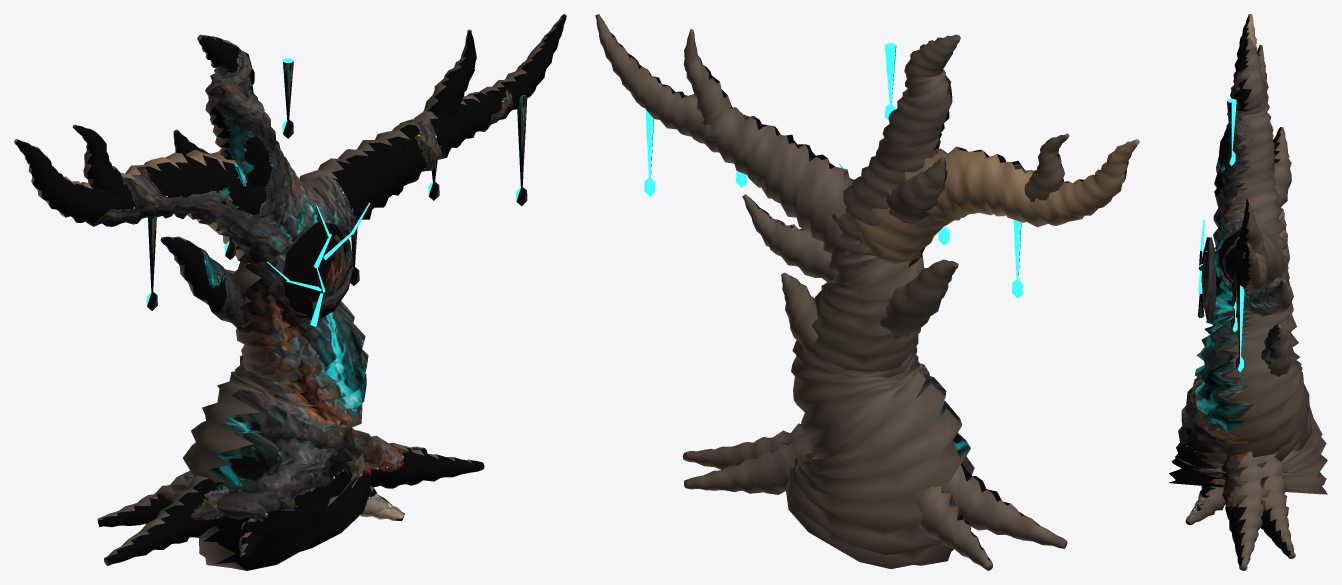
Rendered from ashroot-tree-r8.glb.
3 renders of one model, left to right at view 1: azimuth 30°, elevation 25°; view 2: azimuth 150°, elevation 25°; view 3: azimuth 270°, elevation 25°, orthographic. The views are drawn at different scales.
Parts seen in each view (by area): view 1: Ashroot R7 | fused twisting trunk, Ashroot R7 | long left bough, Ashroot R7 | sweeping right bough, Ashroot R7 | black heart hollow, Ashroot R7 | exposed root 1, Ashroot R7 | exposed root 6, Ashroot R7 | rear broken limb 1, Ashroot R7 | right fork, Ashroot R7 | left fork, Ashroot R7 | exposed root 2, Ashroot R7 | exposed root 4; view 2: Ashroot R7 | fused twisting trunk, Ashroot R7 | sweeping right bough, Ashroot R7 | long left bough, Ashroot R7 | exposed root 1, Ashroot R7 | exposed root 5, Ashroot R7 | rear broken limb 1, Ashroot R7 | rear broken limb 3, Ashroot R7 | exposed root 2, Ashroot R7 | rear broken limb 4, Ashroot R7 | right fork, Ashroot R7 | exposed root 6, Ashroot R7 | rear broken limb 2 (+1 smaller); view 3: Ashroot R7 | fused twisting trunk, Ashroot R7 | exposed root 6, Ashroot R7 | sweeping right bough, Ashroot R7 | exposed root 5, Ashroot R7 | long left bough, Ashroot R7 | rear broken limb 3, Ashroot R7 | rear broken limb 2, Ashroot R7 | rear broken limb 4, Ashroot R7 | black heart hollow, Ashroot R7 | exposed root 4, Ashroot R7 | right fork, Ashroot R7 | hanging cyan sap 5 (+2 smaller).
Boxes of the visible parts, x1,y1,x2,y2 form: Ashroot R7 | fused twisting trunk: (183,34,370,570); Ashroot R7 | long left bough: (14,139,305,264); Ashroot R7 | sweeping right bough: (299,14,566,235); Ashroot R7 | black heart hollow: (281,221,353,319); Ashroot R7 | exposed root 1: (104,475,228,566); Ashroot R7 | exposed root 6: (343,428,484,488); Ashroot R7 | rear broken limb 1: (160,236,250,333); Ashroot R7 | right fork: (423,29,476,120); Ashroot R7 | left fork: (72,124,134,211); Ashroot R7 | exposed root 2: (97,470,193,527); Ashroot R7 | exposed root 4: (360,486,404,521); Ashroot R7 | fused twisting trunk: (785,34,974,568); Ashroot R7 | sweeping right bough: (595,14,868,266); Ashroot R7 | long left bough: (854,139,1139,264); Ashroot R7 | exposed root 1: (943,462,1067,548); Ashroot R7 | exposed root 5: (684,434,812,494); Ashroot R7 | rear broken limb 1: (880,259,958,339); Ashroot R7 | rear broken limb 3: (742,194,838,282); Ashroot R7 | exposed root 2: (915,486,992,570); Ashroot R7 | rear broken limb 4: (886,157,946,223); Ashroot R7 | right fork: (683,29,732,140); Ashroot R7 | exposed root 6: (682,423,807,469); Ashroot R7 | rear broken limb 2: (781,272,818,353); Ashroot R7 | fused twisting trunk: (1168,38,1327,494); Ashroot R7 | exposed root 6: (1221,451,1267,570); Ashroot R7 | sweeping right bough: (1214,227,1286,294); Ashroot R7 | exposed root 5: (1257,451,1295,558); Ashroot R7 | long left bough: (1213,14,1287,249); Ashroot R7 | rear broken limb 3: (1243,277,1293,316); Ashroot R7 | rear broken limb 2: (1261,324,1293,376); Ashroot R7 | rear broken limb 4: (1272,127,1291,207); Ashroot R7 | black heart hollow: (1201,237,1216,320); Ashroot R7 | exposed root 4: (1185,467,1226,525); Ashroot R7 | right fork: (1235,198,1268,260); Ashroot R7 | hanging cyan sap 5: (1235,280,1244,356).
Size of the model in its own units: 5.13 by 4.74 by 1.54.
Materials: 5 (1 with a texture image).
